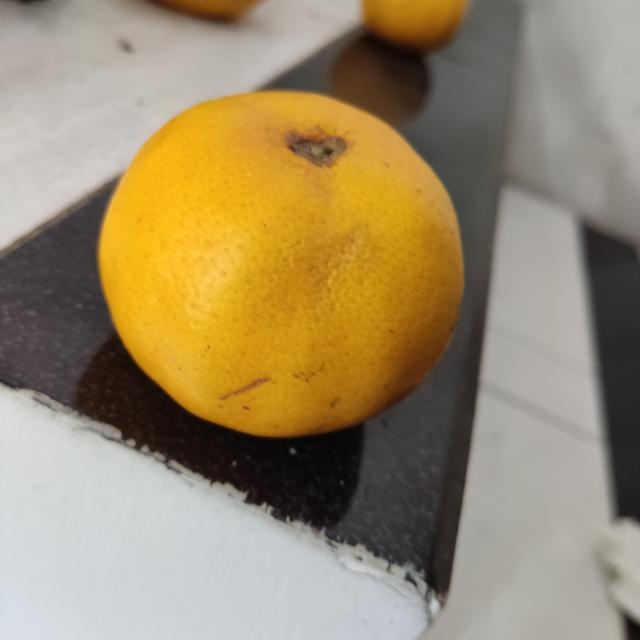agrume: (96, 87, 467, 441)
